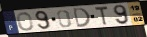0: (57, 9, 73, 28)
9: (113, 4, 130, 25), (35, 10, 52, 31)
D: (72, 7, 92, 29)
O: (16, 12, 35, 32)
T: (94, 6, 110, 26)
